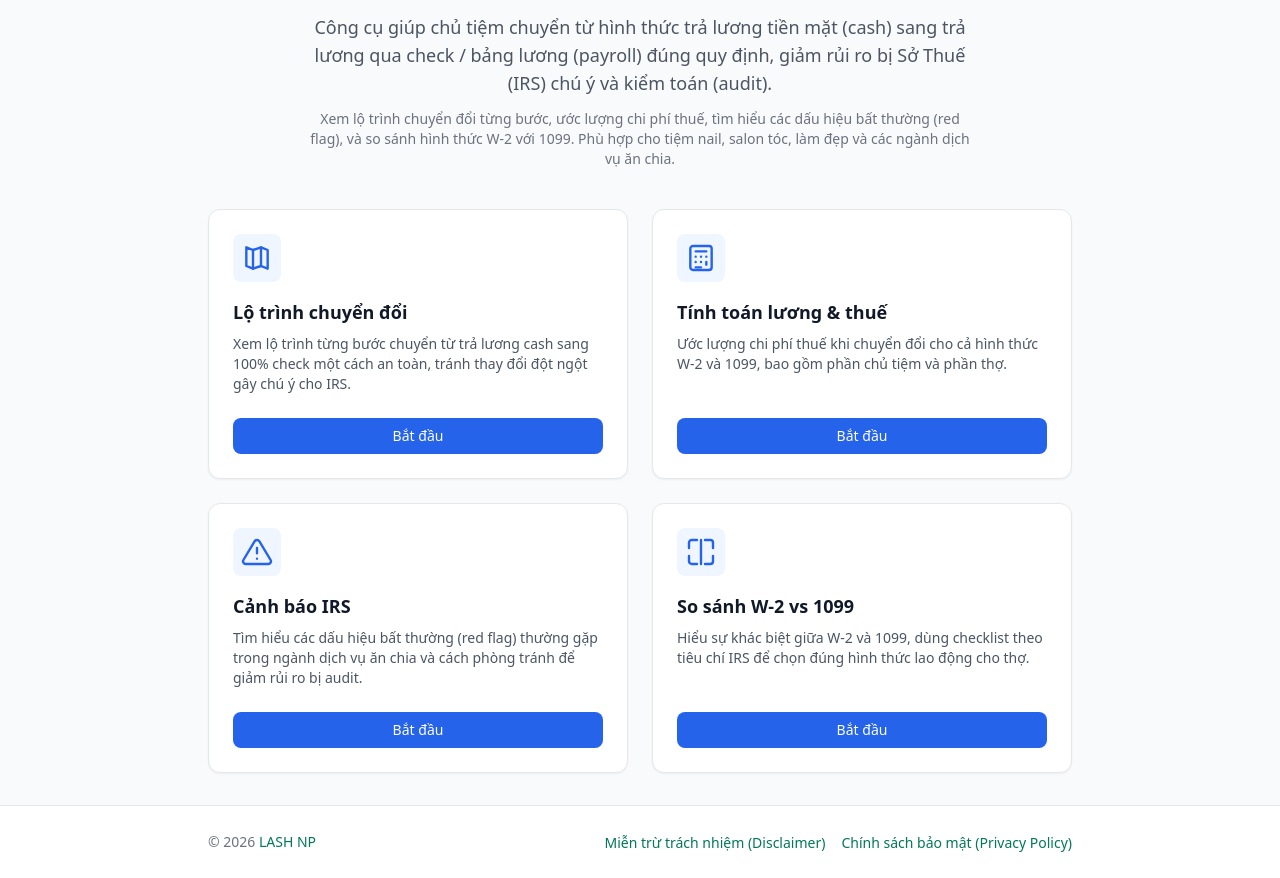
Test: App flow router › opens the disclaimer page overlay from the footer
(page scrolled)
Click the button "Miễn trừ trách nhiệm (Disclaimer)".
click(715, 843)  # box [604, 833, 825, 853]
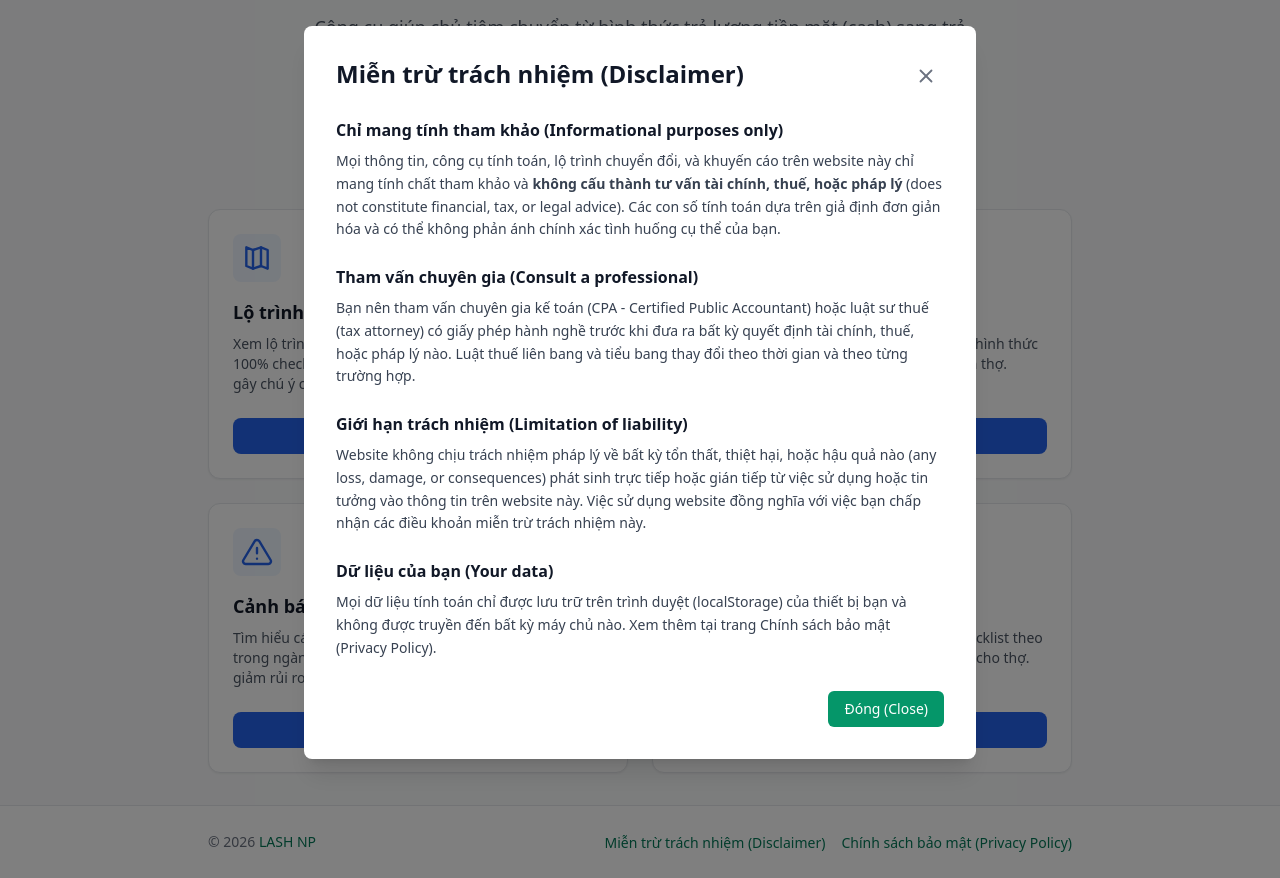
Expected: the heading "Miễn trừ trách nhiệm (Disclaimer)" is shown, [336, 58, 744, 90]
